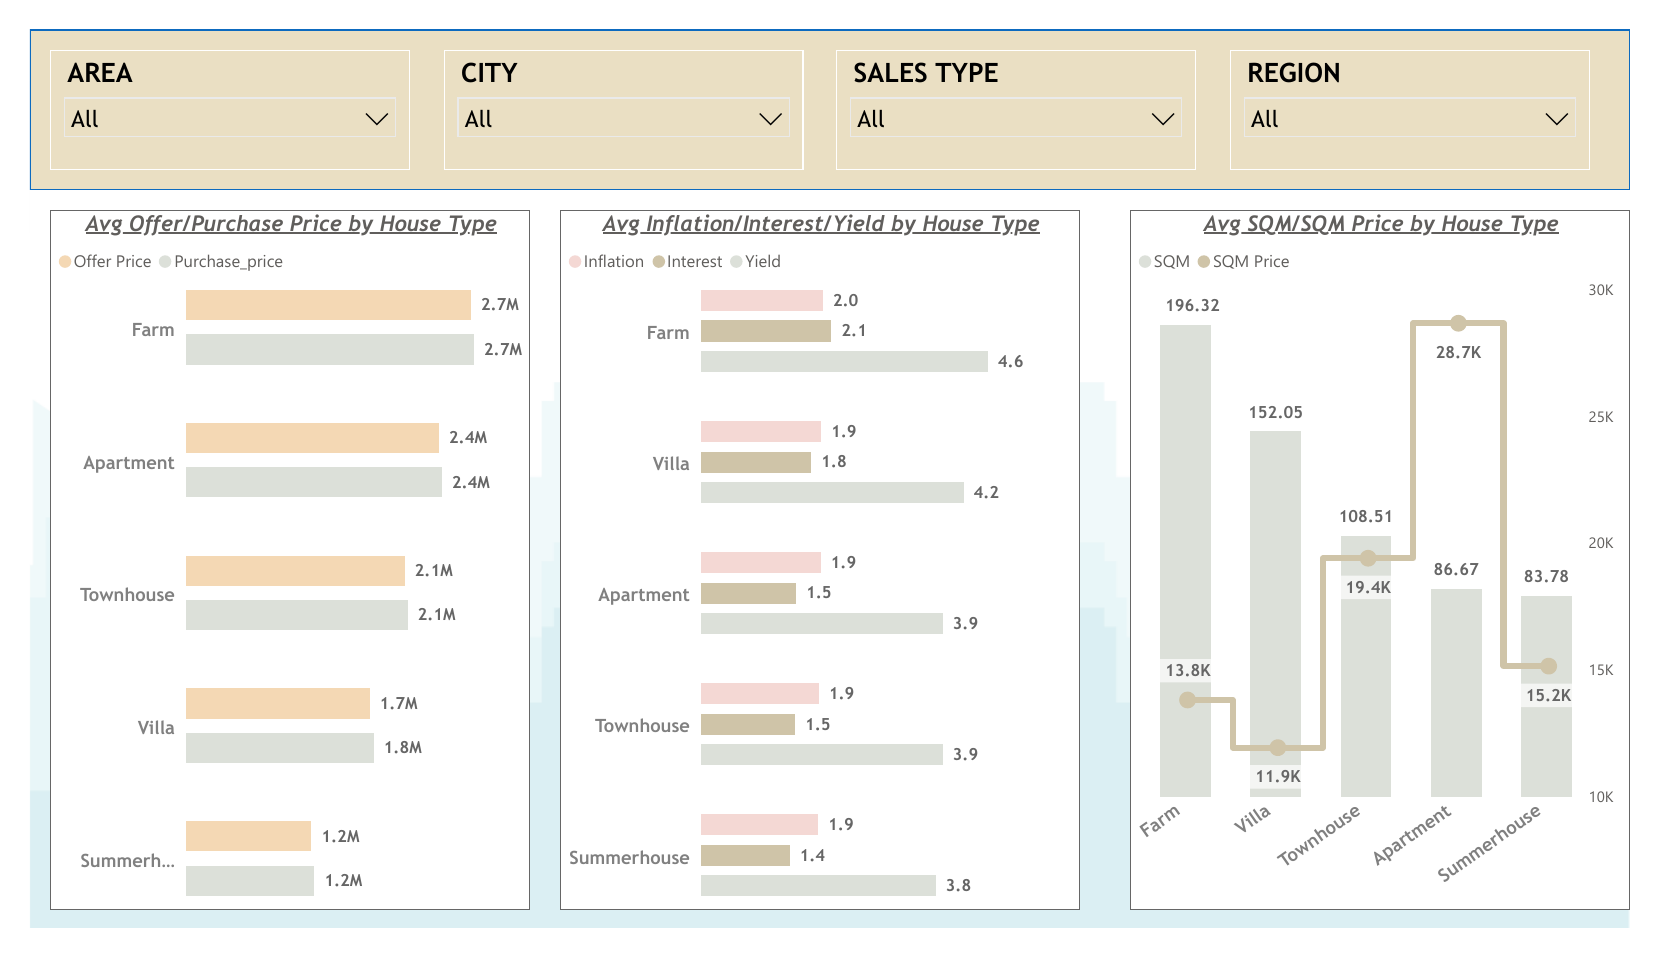

The dashboard page shown, as its layout file describes it:
{"tool":"powerbi","page":{"name":"House Type Analysis","canvas":[1280,720],"ordinal":2},"visuals":[{"type":"clusteredBarChart","title":"Avg Offer/Purchase Price by House Type","fields":{"Category":["Housing.house_type"],"Y":["Avg(Housing.Offer Price)","Avg(Housing.purchase_price)"]},"box":[16,144,384,560],"z":0},{"type":"shape","box":[0,0,1280,128],"z":1000},{"type":"clusteredBarChart","title":"Avg Inflation/Interest/Yield by House Type","fields":{"Category":["Housing.house_type"],"Y":["Avg(Housing.dk_ann_infl_rate%)","Avg(Housing.nom_interest_rate%)","Avg(Housing.yield_on_mortgage_credit_bonds%)"]},"box":[424,144,416,560],"z":2000},{"type":"lineStackedColumnComboChart","title":"Avg SQM/SQM Price by House Type","fields":{"Category":["Housing.house_type"],"Y":["Avg(Housing.sqm)"],"Y2":["Avg(Housing.sqm_price)"]},"box":[880,144,400,560],"z":3000},{"type":"slicer","fields":{"Values":["Housing.area"]},"box":[16,16,288,96],"z":4000},{"type":"slicer","fields":{"Values":["Housing.city"]},"box":[330.7,16,288,96],"z":4001},{"type":"slicer","fields":{"Values":["Housing.sales_type"]},"box":[645.3,16,288,96],"z":4002},{"type":"slicer","fields":{"Values":["Housing.region"]},"box":[960,16,288,96],"z":4003}]}

Visuals, with their boxes in screenshot pixels (x1, y1, x2, y2), scaled from the page's 1280x720 canvas onto the 1660x960 screenshot:
"Avg Offer/Purchase Price by House Type" clusteredBarChart: 21:192:519:939
shape: 0:0:1659:171
"Avg Inflation/Interest/Yield by House Type" clusteredBarChart: 550:192:1089:939
"Avg SQM/SQM Price by House Type" lineStackedColumnComboChart: 1141:192:1659:939
slicer - Housing.area: 21:21:394:149
slicer - Housing.city: 429:21:802:149
slicer - Housing.sales_type: 837:21:1210:149
slicer - Housing.region: 1245:21:1618:149
